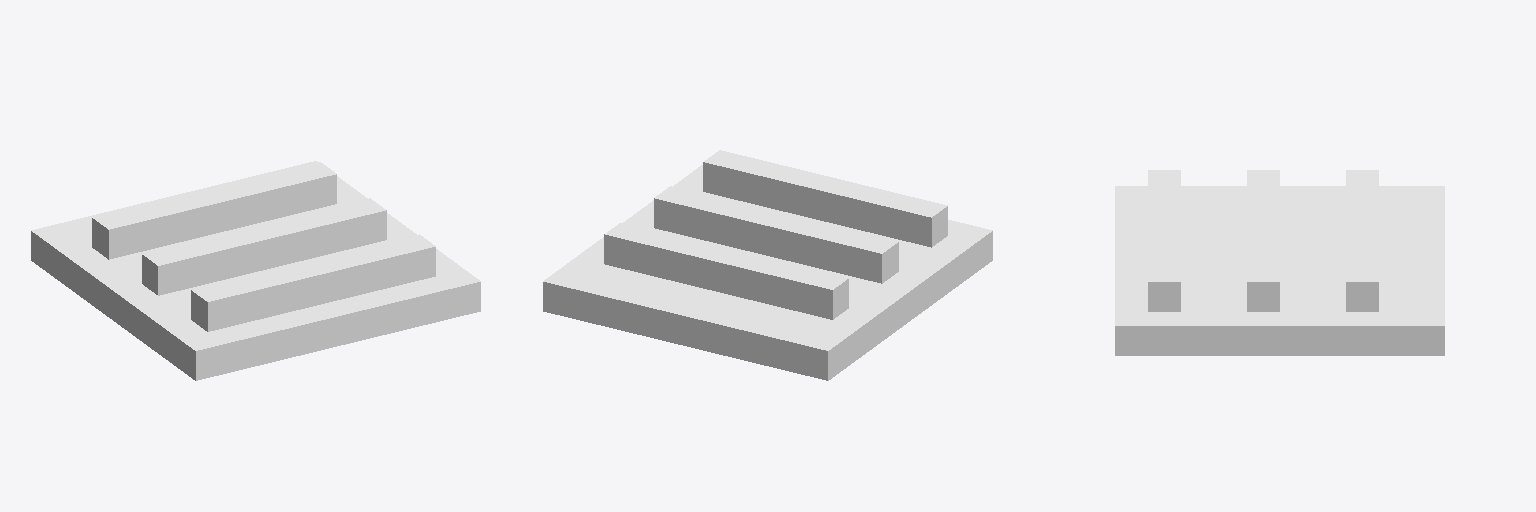
Rendered from bed-good.obj.
3 renders of one model, left to right at view 1: azimuth 30°, elevation 25°; view 2: azimuth 150°, elevation 25°; view 3: azimuth 270°, elevation 25°, orthographic.
Parts seen in each view (by area): view 1: object 1; view 2: object 1; view 3: object 1.
Part boxes in pixels (x1,y1,x2,y2): object 1: (31,161,480,380); object 1: (543,150,992,380); object 1: (1115,170,1444,355).
Size of the model in its own units: 1 by 0.2 by 1.